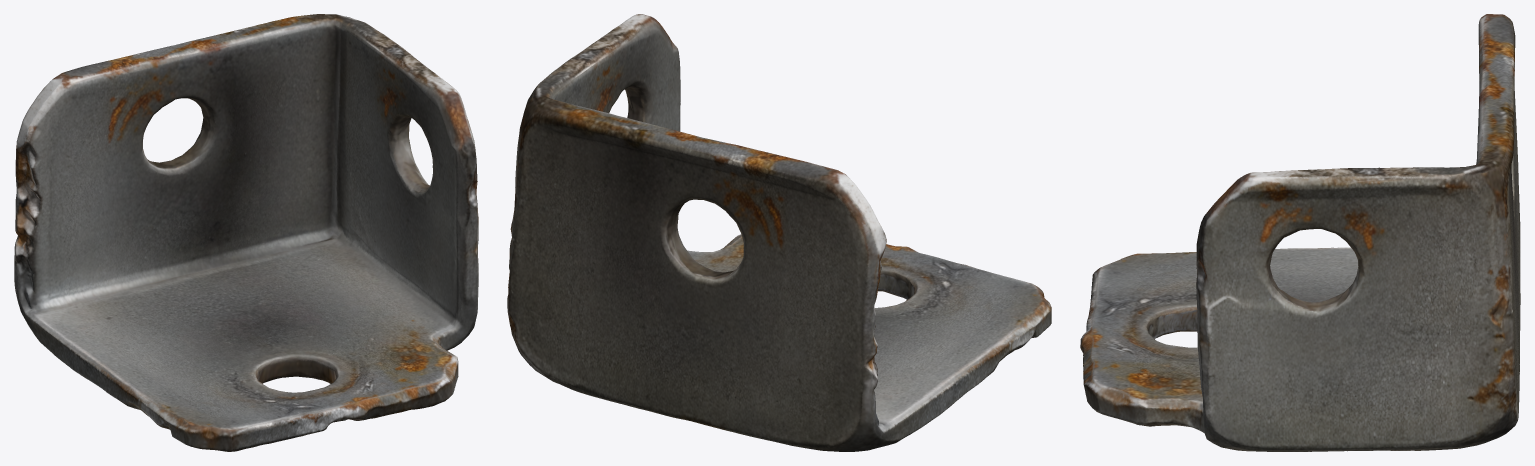
File: MetalPart.glb
3 views of the same model, side by side, from view 1: azimuth 30°, elevation 25°; view 2: azimuth 150°, elevation 25°; view 3: azimuth 270°, elevation 25° (orthographic). The views are drawn at different scales.
Parts seen in each view (by area): view 1: texture_mapping; view 2: texture_mapping; view 3: texture_mapping.
Part boxes in pixels (x1=…): texture_mapping: x1=14, y1=14, x2=478, y2=451; texture_mapping: x1=507, y1=14, x2=1051, y2=451; texture_mapping: x1=1080, y1=14, x2=1520, y2=451.
Bounding box in the file's own units: 0.9987 × 0.7106 × 0.9968.
1 material, 1 textured.
